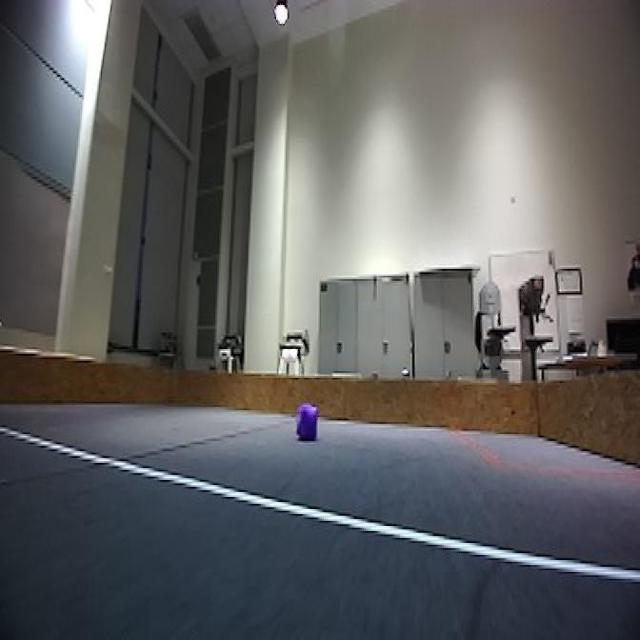frc_cube: (295, 400, 321, 444)
